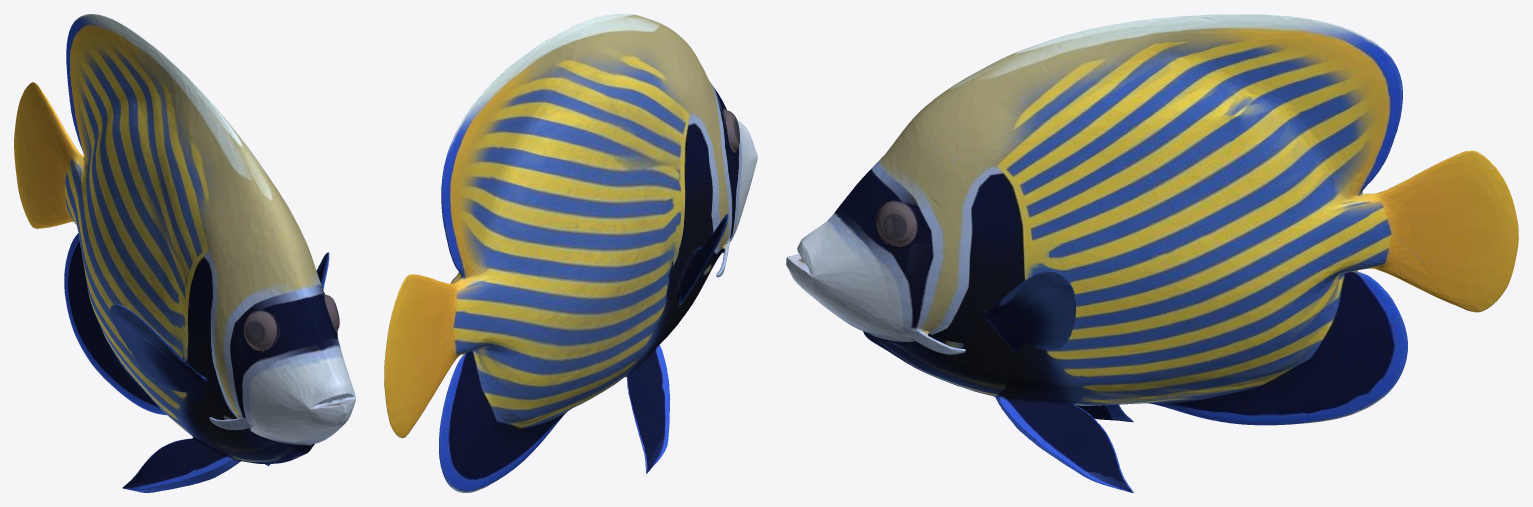
The model's file is meshy-emperor-angel.glb.
3 views of the same model, side by side, from view 1: azimuth 30°, elevation 25°; view 2: azimuth 150°, elevation 25°; view 3: azimuth 270°, elevation 25° (orthographic). The views are drawn at different scales.
Bounding box in the file's own units: 0.7109 × 1.27 × 1.9.
Materials: 1 (1 with a texture image).
